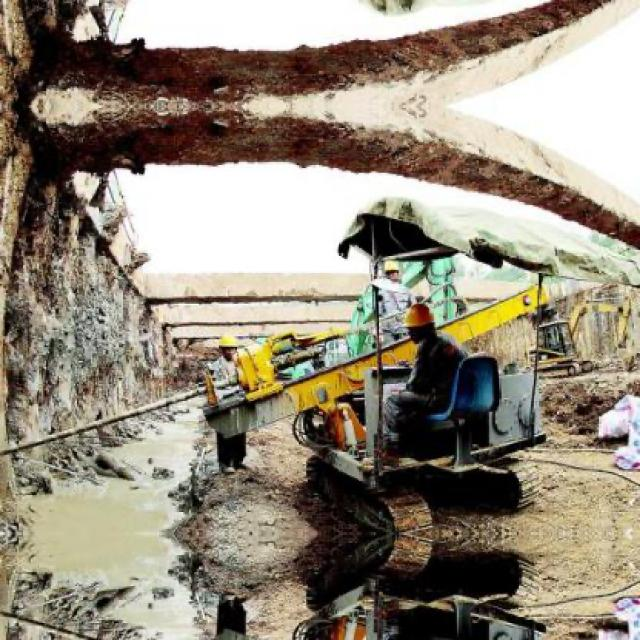helmet: (397, 298, 435, 347), (217, 331, 245, 361), (380, 257, 402, 287)
